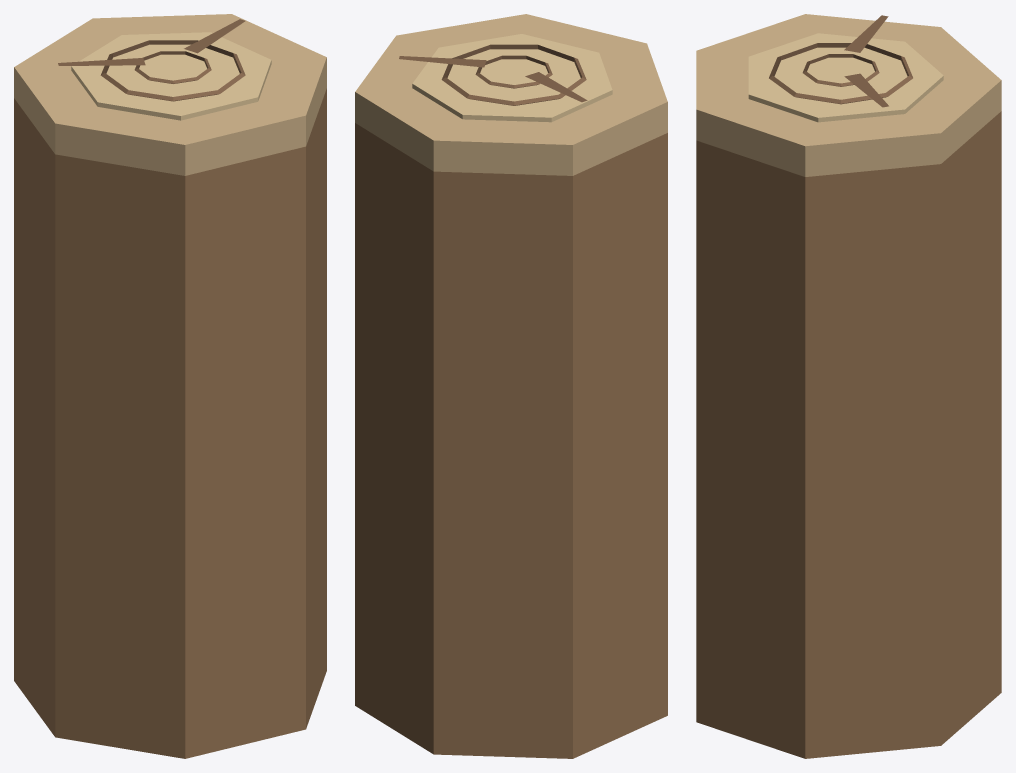
Rendered from conifer_stump_02.glb.
3 views of the same model, side by side, from view 1: azimuth 30°, elevation 25°; view 2: azimuth 150°, elevation 25°; view 3: azimuth 270°, elevation 25° (orthographic).
Parts seen in each view (by area): view 1: conifer_stump_02_bark, conifer_stump_02_cut_cap, conifer_stump_02_inner_cut, conifer_stump_02_growth_ring_outer, conifer_stump_02_growth_ring_inner; view 2: conifer_stump_02_bark, conifer_stump_02_cut_cap, conifer_stump_02_inner_cut, conifer_stump_02_growth_ring_outer, conifer_stump_02_growth_ring_inner; view 3: conifer_stump_02_bark, conifer_stump_02_cut_cap, conifer_stump_02_inner_cut, conifer_stump_02_growth_ring_outer, conifer_stump_02_growth_ring_inner.
Part boxes in pixels (x1,y1,x2,y2): conifer_stump_02_bark: (14,88,326,758); conifer_stump_02_cut_cap: (14,14,326,175); conifer_stump_02_inner_cut: (71,32,271,120); conifer_stump_02_growth_ring_outer: (100,40,245,101); conifer_stump_02_growth_ring_inner: (134,51,211,83); conifer_stump_02_bark: (355,123,667,758); conifer_stump_02_cut_cap: (355,14,667,175); conifer_stump_02_inner_cut: (412,34,612,122); conifer_stump_02_growth_ring_outer: (441,44,586,105); conifer_stump_02_growth_ring_inner: (475,55,552,88); conifer_stump_02_bark: (696,111,1001,758); conifer_stump_02_cut_cap: (696,14,1001,176); conifer_stump_02_inner_cut: (748,33,943,122); conifer_stump_02_growth_ring_outer: (769,43,912,104); conifer_stump_02_growth_ring_inner: (802,54,879,86).
Bounding box in the file's own units: 0.312 × 0.695 × 0.3042.
